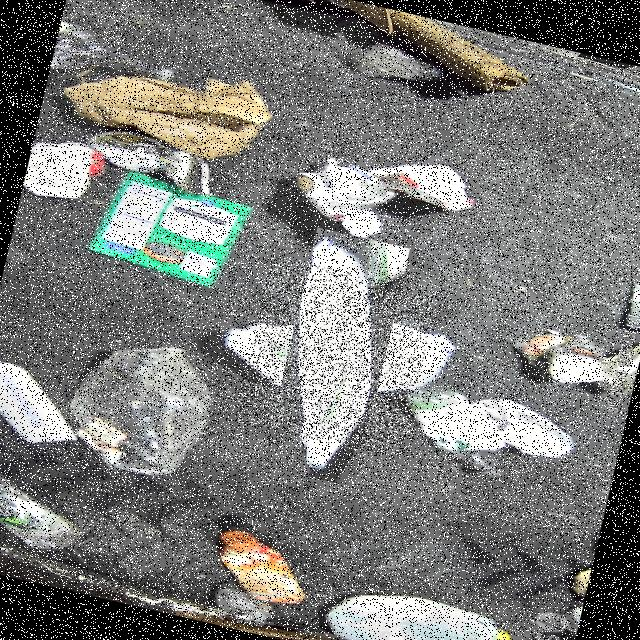milk-jug: (234, 254, 438, 458)
